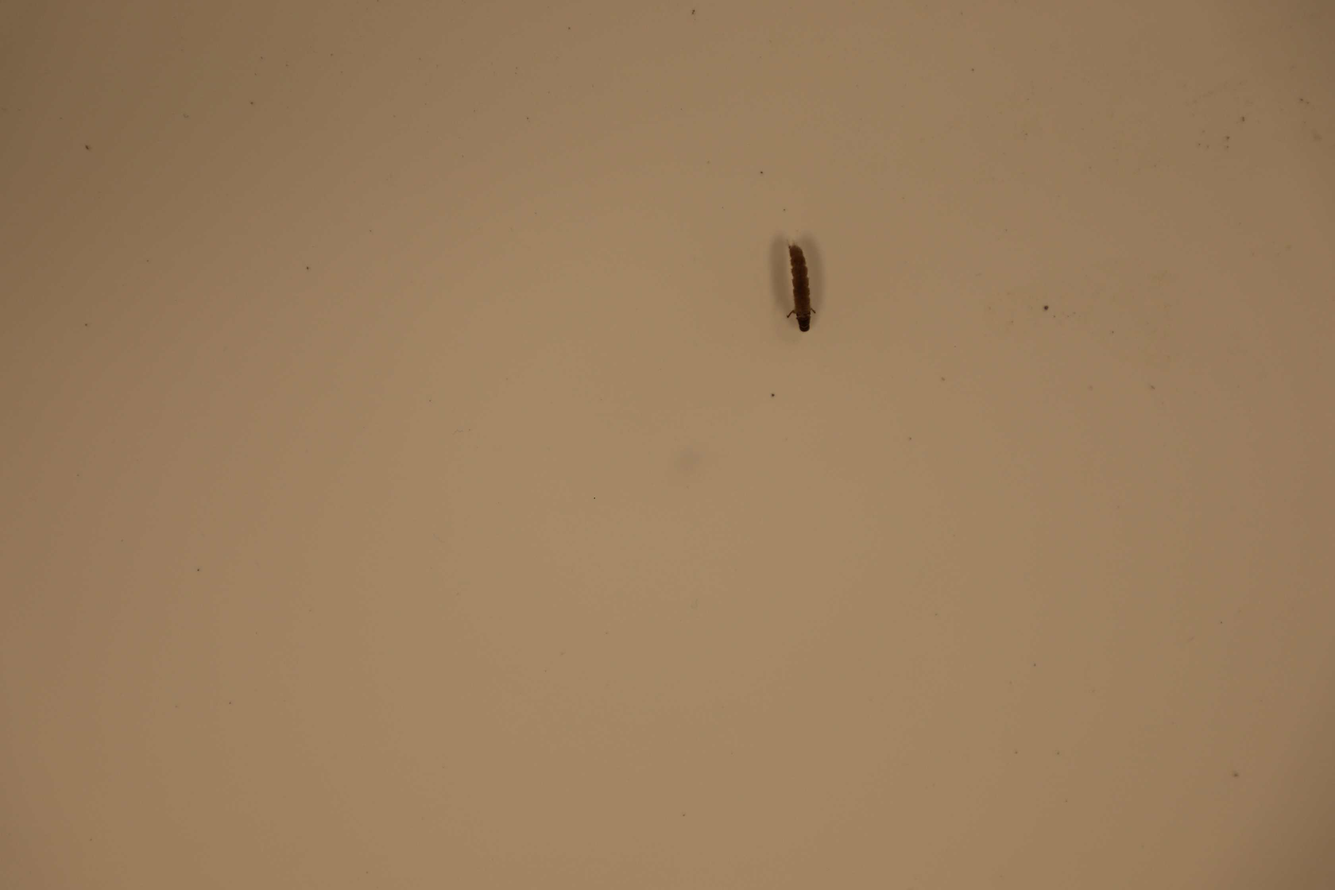Cadisfly: (776, 243, 821, 338)
